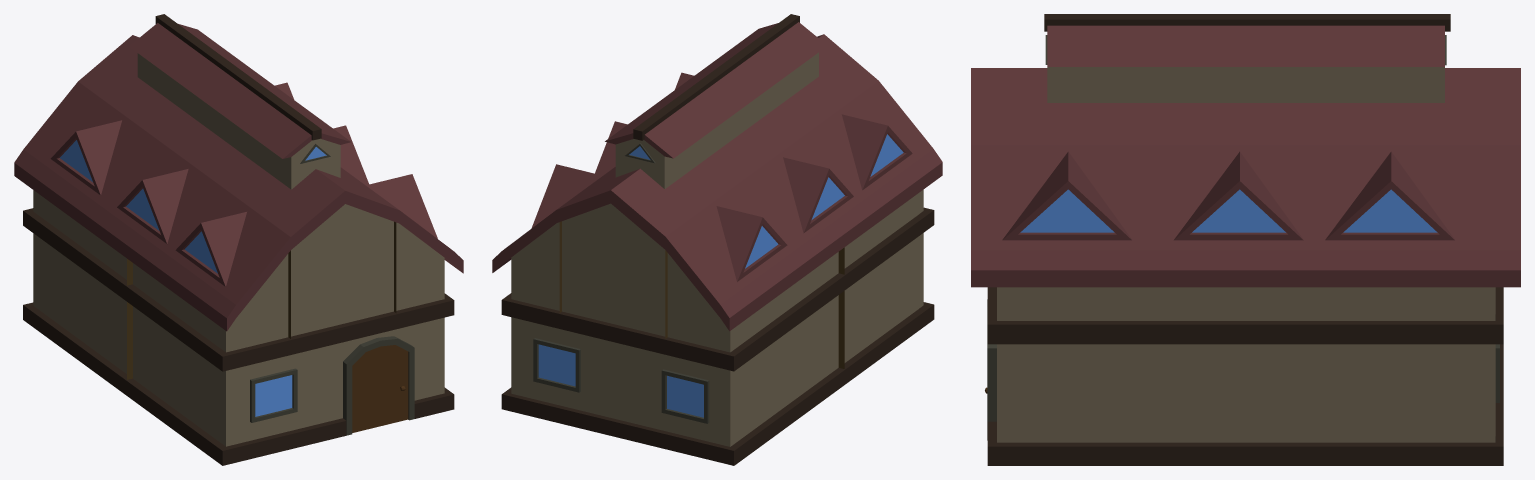
The model's file is CajaCasa 2.4.fbx.
3 views of the same model, side by side, from view 1: azimuth 30°, elevation 25°; view 2: azimuth 150°, elevation 25°; view 3: azimuth 270°, elevation 25° (orthographic). The views are drawn at different scales.
Parts seen in each view (by area): view 1: Tejado4.1; view 2: Tejado4.1; view 3: Tejado4.1.
Boxes of the visible parts, x1,y1,x2,y2 form: Tejado4.1: (14, 14, 463, 465); Tejado4.1: (492, 14, 942, 465); Tejado4.1: (971, 14, 1520, 465).
Bounding box in the file's own units: 739 × 869 × 1149.
